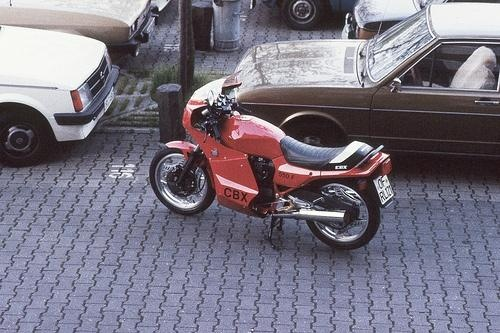car: (232, 3, 500, 165), (1, 26, 119, 166), (1, 1, 160, 61), (255, 1, 357, 29)
motorbike: (152, 75, 395, 255)
